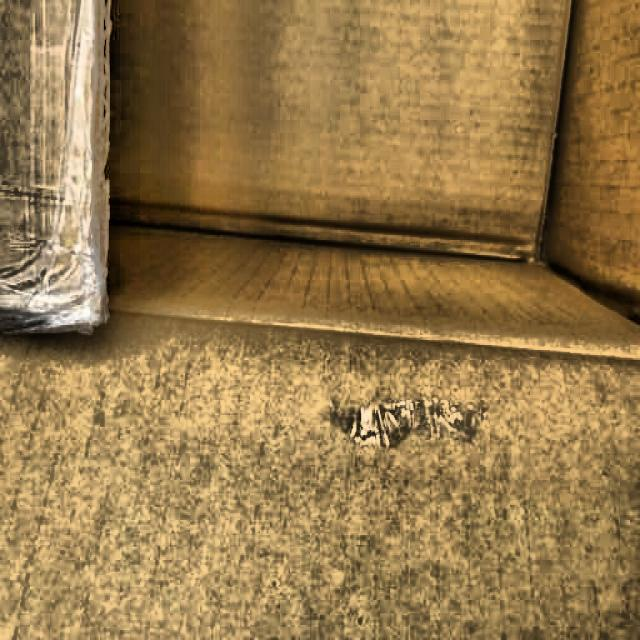cardboard: (0, 0, 112, 336)
